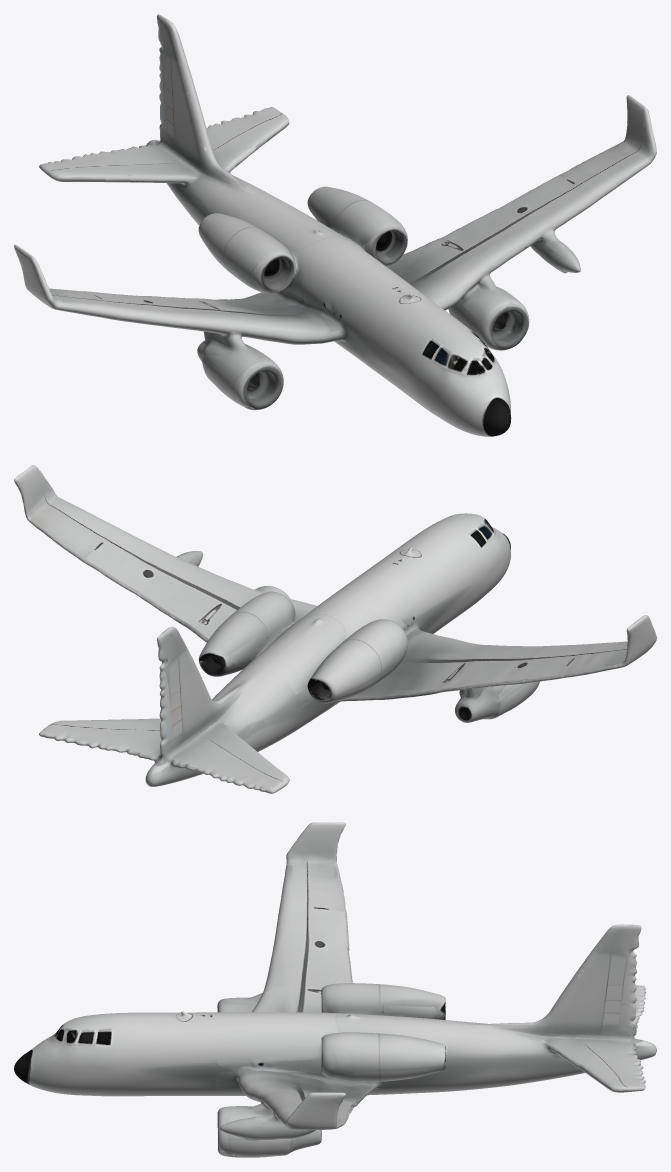
Rendered from flight.glb.
The picture shows the model from 3 angles, top to bottom: view 1: azimuth 30°, elevation 25°; view 2: azimuth 150°, elevation 25°; view 3: azimuth 270°, elevation 25°; orthographic projection. The views are drawn at different scales.
Visible parts, largest first — view 1: mesh_uvwarp.002; view 2: mesh_uvwarp.002; view 3: mesh_uvwarp.002.
Boxes of the visible parts, <box> form: mesh_uvwarp.002: <box>14,14,656,436</box>; mesh_uvwarp.002: <box>14,465,656,793</box>; mesh_uvwarp.002: <box>14,822,656,1157</box>.
Bounding box in the file's own units: 1.99 × 0.6133 × 1.99.
Materials: 1 (1 with a texture image).
